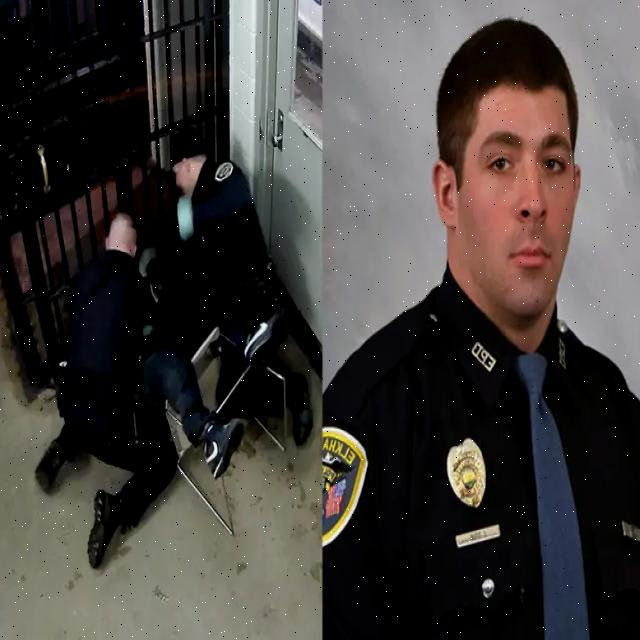police: (301, 7, 640, 640)
